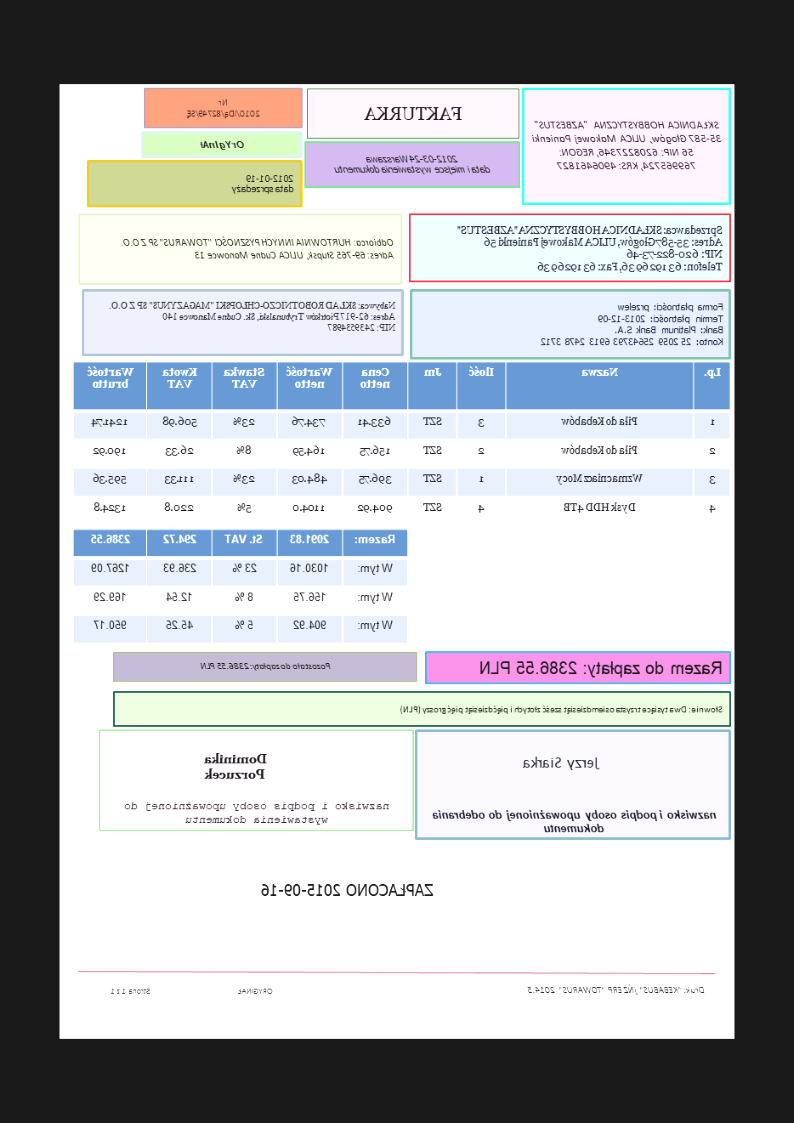Table: (71, 360, 732, 526), (72, 526, 410, 645)
TextBox: (453, 220, 726, 276), (529, 117, 725, 173), (107, 297, 399, 334), (537, 298, 726, 350), (121, 797, 393, 826), (429, 808, 718, 835), (119, 235, 396, 263), (479, 657, 724, 678), (397, 702, 725, 717), (332, 151, 494, 177), (257, 880, 436, 899), (524, 982, 706, 997), (200, 749, 270, 784), (107, 984, 276, 998), (184, 95, 264, 121), (364, 103, 465, 123), (198, 659, 333, 673), (519, 752, 604, 774), (230, 170, 296, 196), (198, 135, 247, 152)
